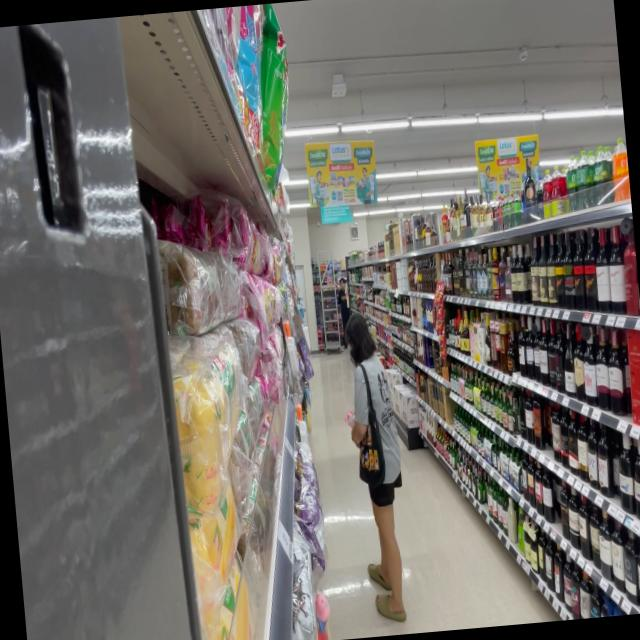shoplifting: (332, 309, 418, 630)
